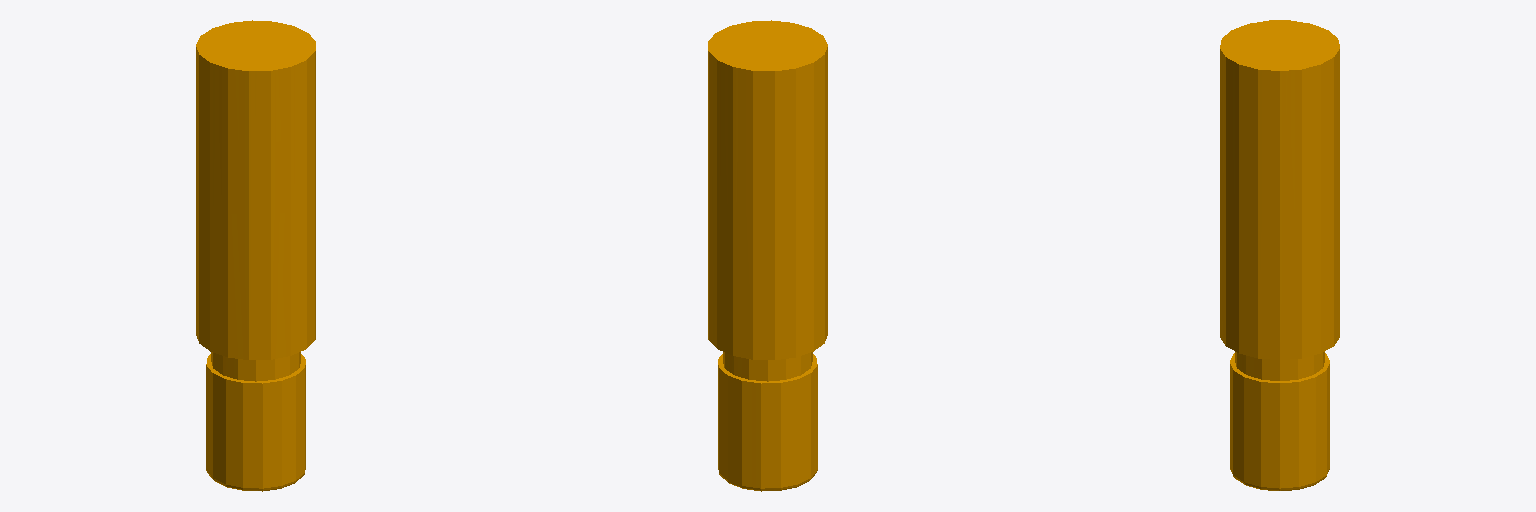
The robot description file, URDF, robot "01092_plug":
<?xml version="1.0"?>
<robot name="01092_plug">
	<link name="01092_plug">
		<visual>
			<geometry>
				<mesh filename="../mesh/01092/asset_plug.obj"/>
			</geometry>
		</visual>
		<collision>
			<geometry>
				<mesh filename="../mesh/01092/asset_plug.obj"/>
			</geometry>
			<sdf resolution="256"/>
		</collision>
	</link>
</robot>

--- Facts derived from the render (not from the file) ---
Views: 3 orthographic renders of the robot side by side, from view 1: azimuth 30°, elevation 25°; view 2: azimuth 150°, elevation 25°; view 3: azimuth 270°, elevation 25°.
Model 01092_plug with 1 links and 0 joints (none), rooted at 01092_plug, posed all joints at 0.
Links seen in each view (by area): view 1: 01092_plug; view 2: 01092_plug; view 3: 01092_plug.
Link boxes in pixels (x1=…): 01092_plug: x1=196, y1=20, x2=315, y2=491; 01092_plug: x1=708, y1=20, x2=827, y2=491; 01092_plug: x1=1220, y1=20, x2=1339, y2=490.
Bounding box of the posed robot: 0.0095 × 0.0095 × 0.0371 m (x, y, z).
1 mesh visuals loaded from 1 distinct referenced files (1 OBJ).